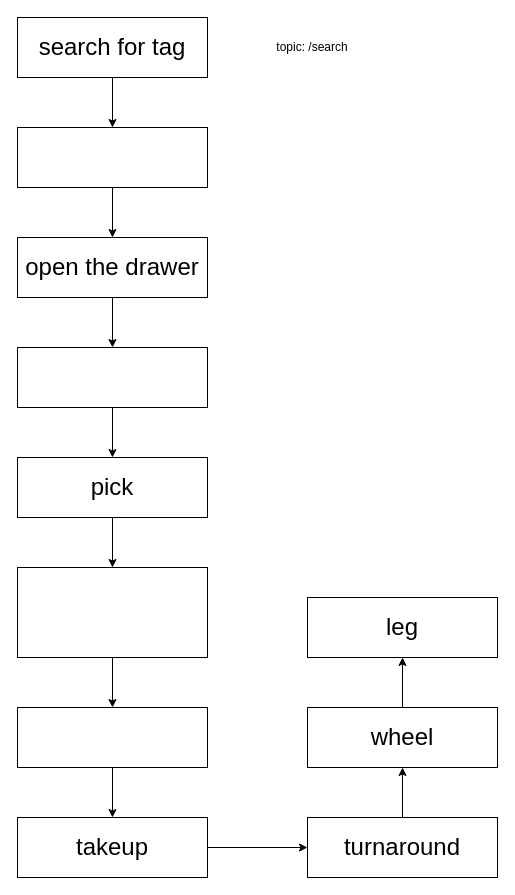
The diagram is 515 pixels wide and 895 high, and some of its shapes have lost their labels. The centre of each missing label's shape, as x and y in pixels:
"open dagana && homing" goes at pixel 112 377.
"put && homing" goes at pixel 112 737.
"turn right around && wheel && turn left around" goes at pixel 112 612.
"wheel to drawer" goes at pixel 112 157.
